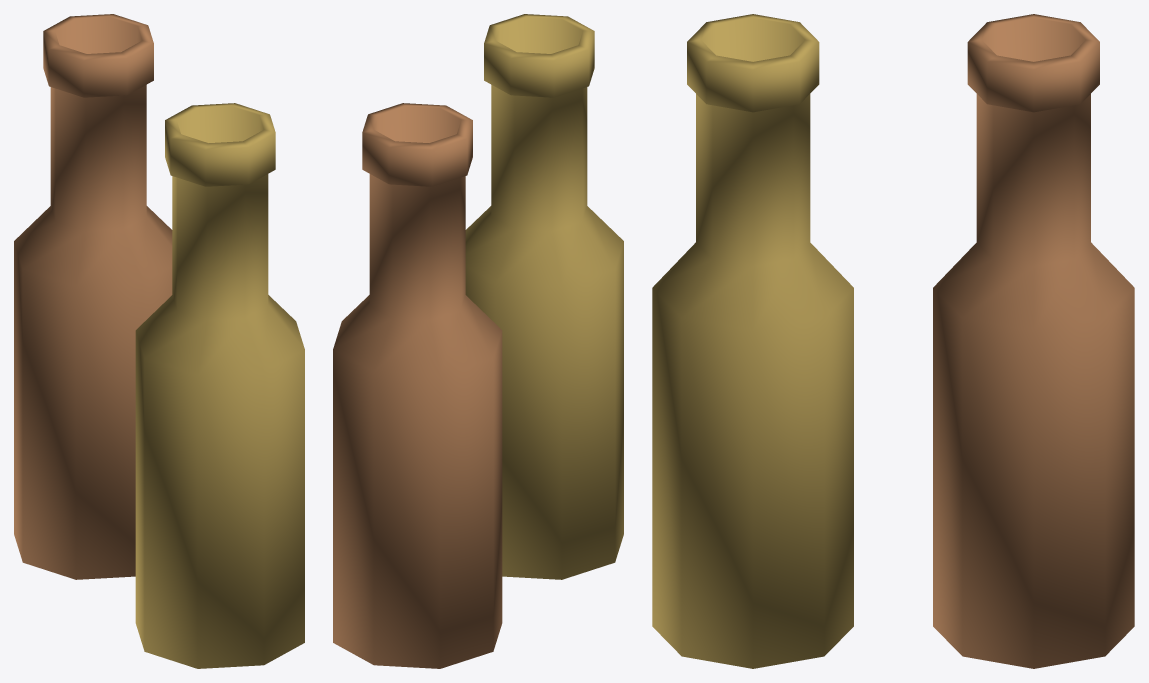
The model's file is bottles.fbx.
3 renders of one model, left to right at view 1: azimuth 30°, elevation 25°; view 2: azimuth 150°, elevation 25°; view 3: azimuth 270°, elevation 25°, orthographic. The views are drawn at different scales.
Parts seen in each view (by area): view 1: Bottle.001, Bottle; view 2: Bottle, Bottle.001; view 3: Bottle, Bottle.001.
Part boxes in pixels (x1,y1,x2,y2): Bottle.001: (135, 103, 304, 668); Bottle: (14, 14, 172, 579); Bottle: (333, 103, 502, 668); Bottle.001: (465, 14, 623, 579); Bottle: (933, 14, 1134, 668); Bottle.001: (652, 14, 853, 668).
Size of the model in its own units: 50.73 by 163 by 121.
1 material, 1 textured.
